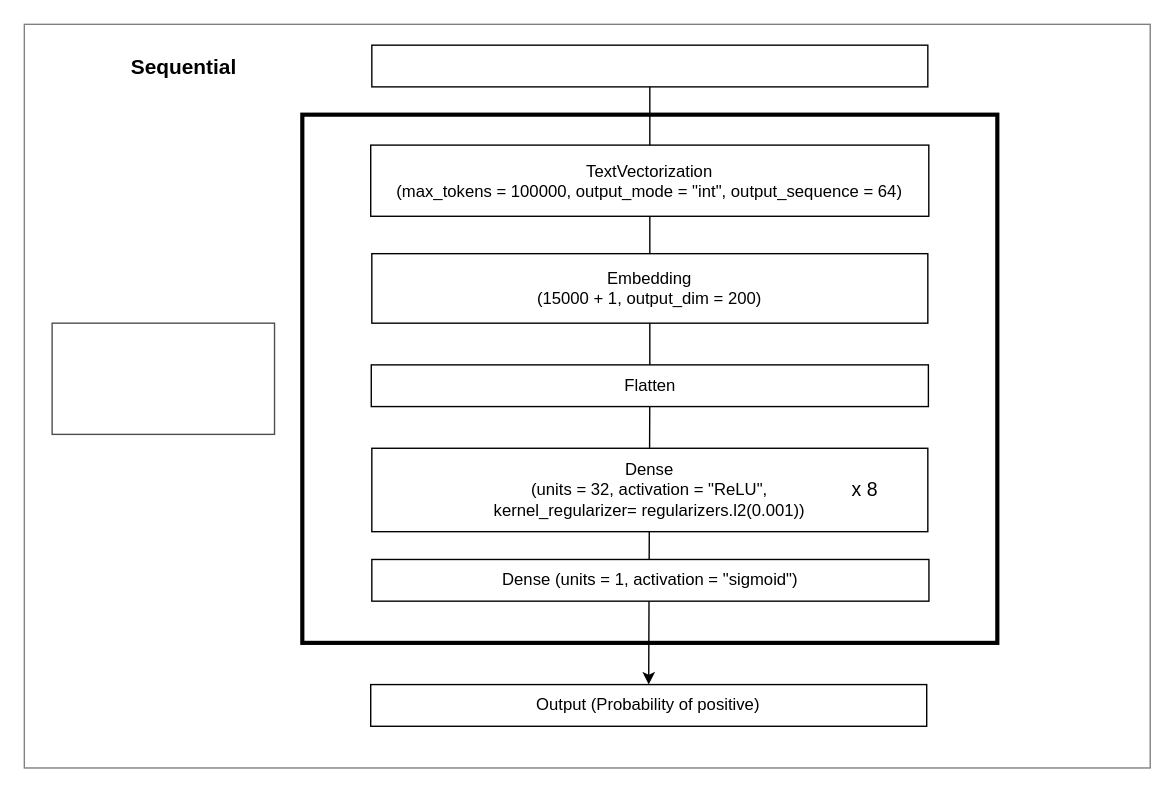
Image size: 1175x792. Some labels were removed from this diagram. Here are the shapes that lost their labels. From the top down, the box of each, then its label:
(370, 44, 928, 87): Input (Text Data)
(51, 322, 275, 434): Batch Size = 64 Epoch = 3 Optimizer = adam Loss = Binarry Crossentropy
